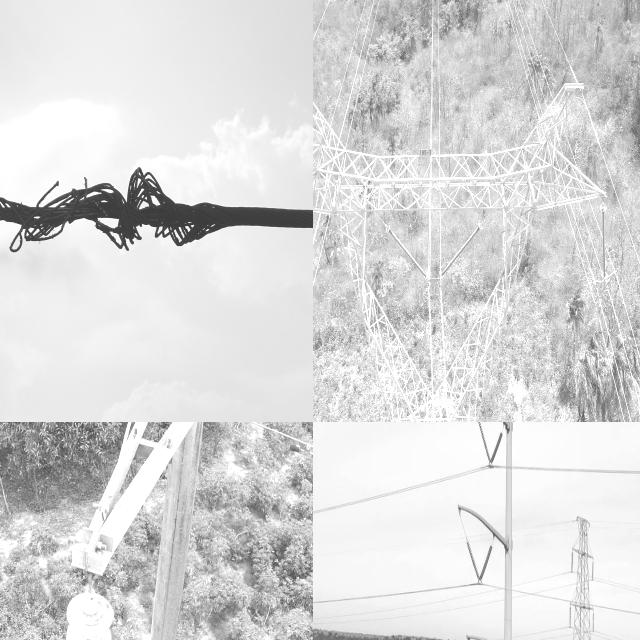杆塔: (313, 72, 614, 422), (548, 506, 603, 640)
正常绝缘子: (55, 567, 108, 640), (437, 218, 485, 281), (384, 221, 430, 283), (458, 528, 485, 591), (474, 535, 498, 596), (482, 422, 508, 477), (474, 422, 496, 473), (599, 200, 609, 284), (588, 555, 597, 584), (570, 546, 576, 579), (567, 598, 573, 631), (590, 607, 597, 635)
电缆破损: (0, 161, 241, 256)
